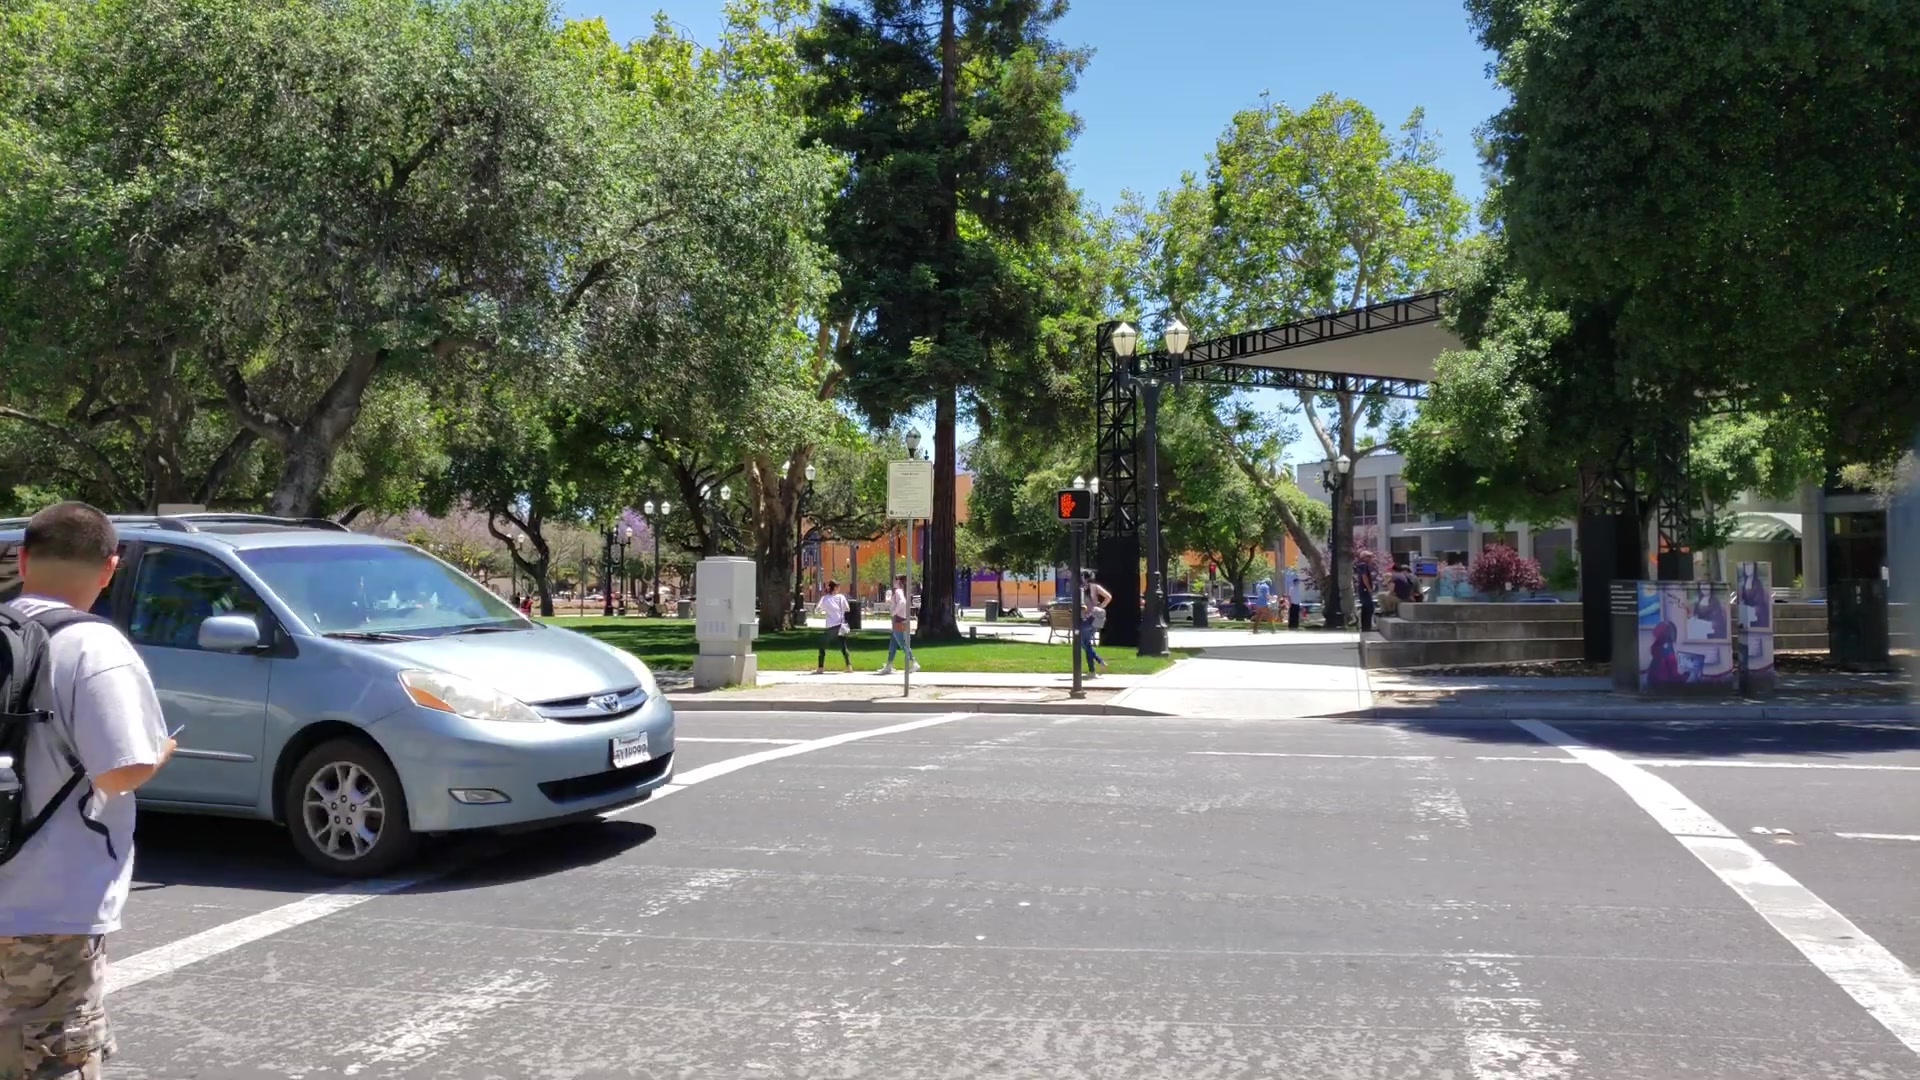vehicle: (4, 506, 683, 866)
